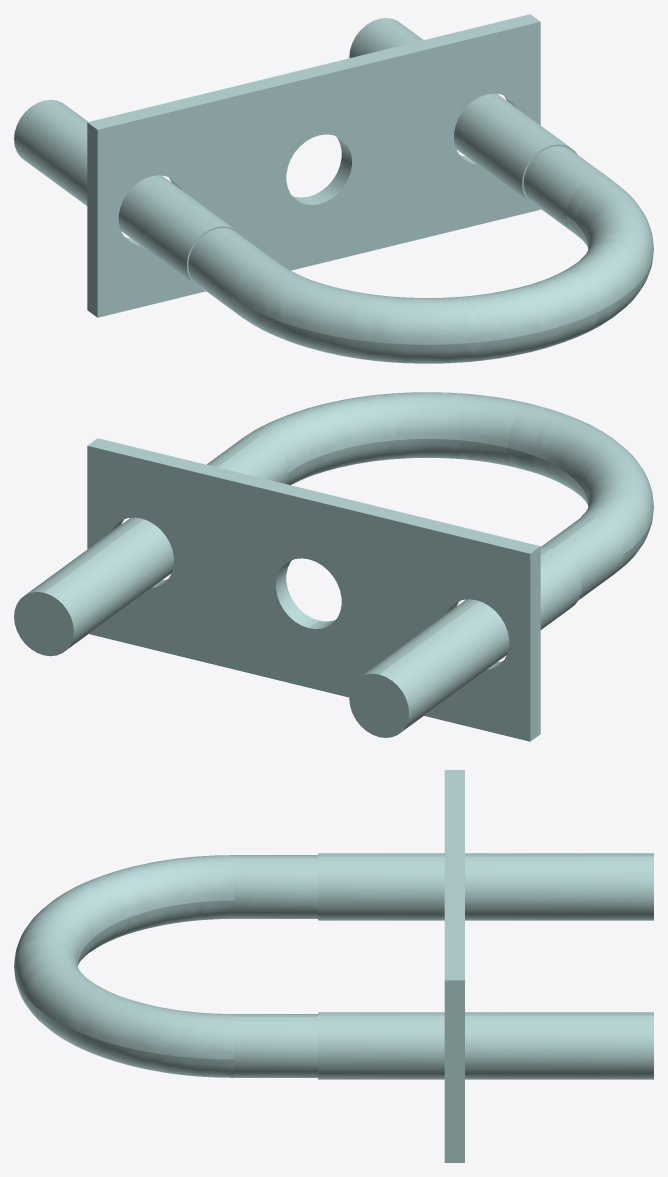
The picture shows the model from 3 angles, top to bottom: view 1: azimuth 30°, elevation 25°; view 2: azimuth 150°, elevation 25°; view 3: azimuth 270°, elevation 25°; orthographic projection. The views are drawn at different scales.
Size of the model in its own units: 74 by 30 by 95.25.
